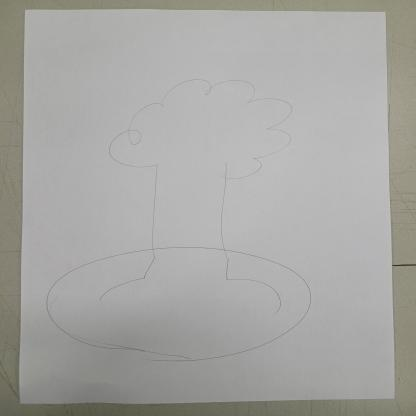crown_cloud: (104, 76, 296, 180)
root_none: (126, 241, 249, 273)
trunk_straight: (147, 182, 231, 240)
